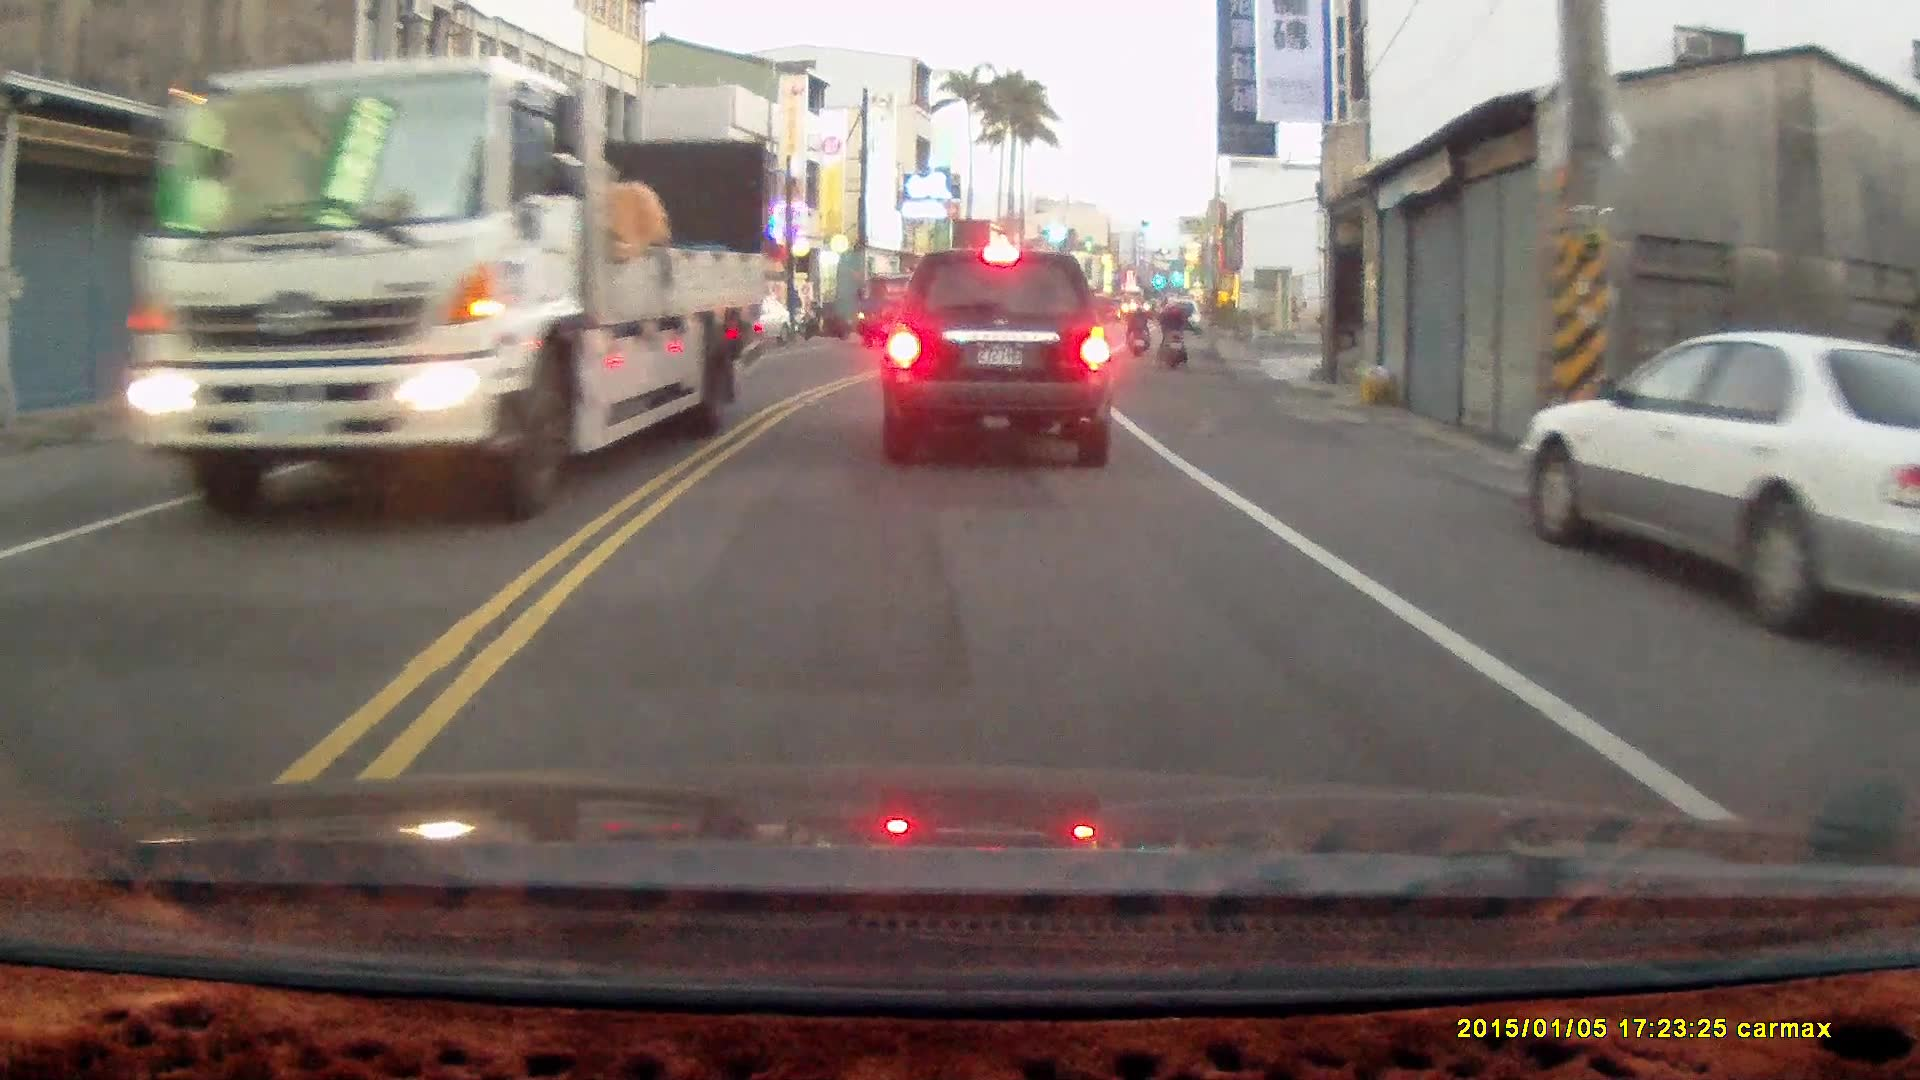rider: (1156, 291, 1187, 370), (1124, 301, 1149, 359)
vehicle: (115, 62, 778, 525), (1518, 327, 1920, 650), (879, 243, 1118, 466), (718, 291, 796, 348)
